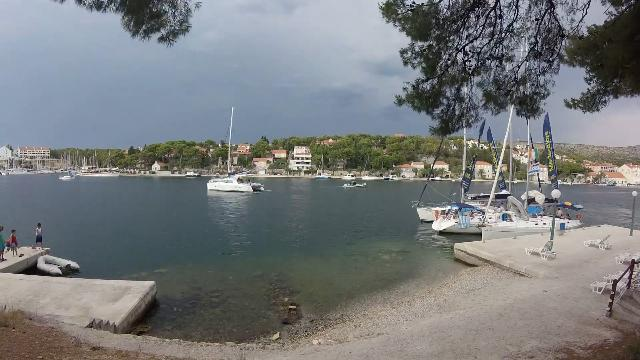Sailboat: (204, 170, 272, 194), (58, 172, 76, 182)
speedboat: (340, 176, 370, 190)
